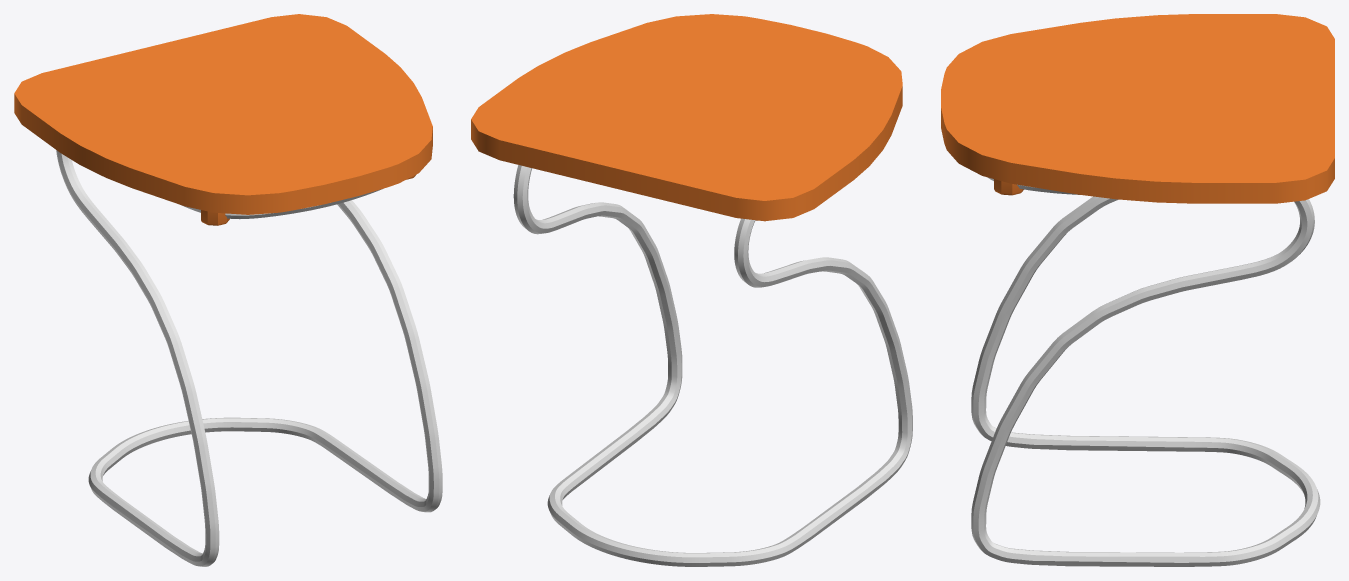
Rendered from Better Table.fbx.
3 views of the same model, side by side, from view 1: azimuth 30°, elevation 25°; view 2: azimuth 150°, elevation 25°; view 3: azimuth 270°, elevation 25° (orthographic). The views are drawn at different scales.
Visible parts, largest first — view 1: Better Table; view 2: Better Table; view 3: Better Table.
Boxes of the visible parts, x1,y1,x2,y2 form: Better Table: [14, 14, 442, 566]; Better Table: [471, 14, 912, 566]; Better Table: [941, 14, 1334, 566].
Size of the model in its own units: 87.54 by 99.18 by 86.28.
